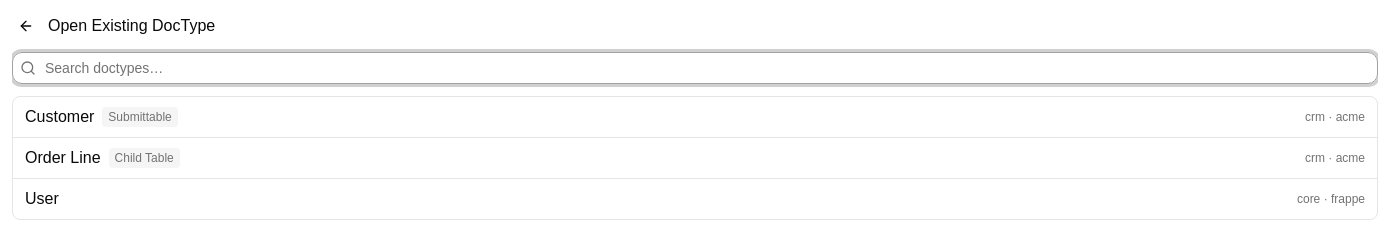
it: DocTypeList › shows a no-match placeholder when nothing matches
Expected: the text "Customer" is shown, [25,105,94,129]
In the field with placeholder "Search doctypes…": x=695, y=68 [12,52,1378,84], type "zzzznothing"
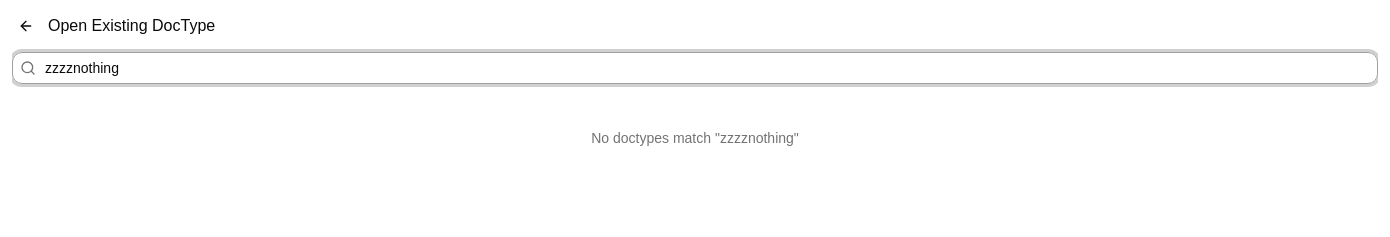
Expected: the text "No doctypes match \"zzzznothing\"" is shown, [591,130,799,146]
